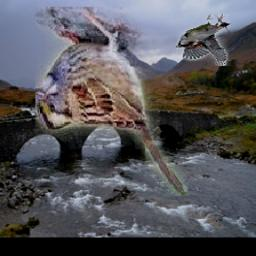Sparrow: (35, 8, 189, 197), (176, 14, 231, 66)
